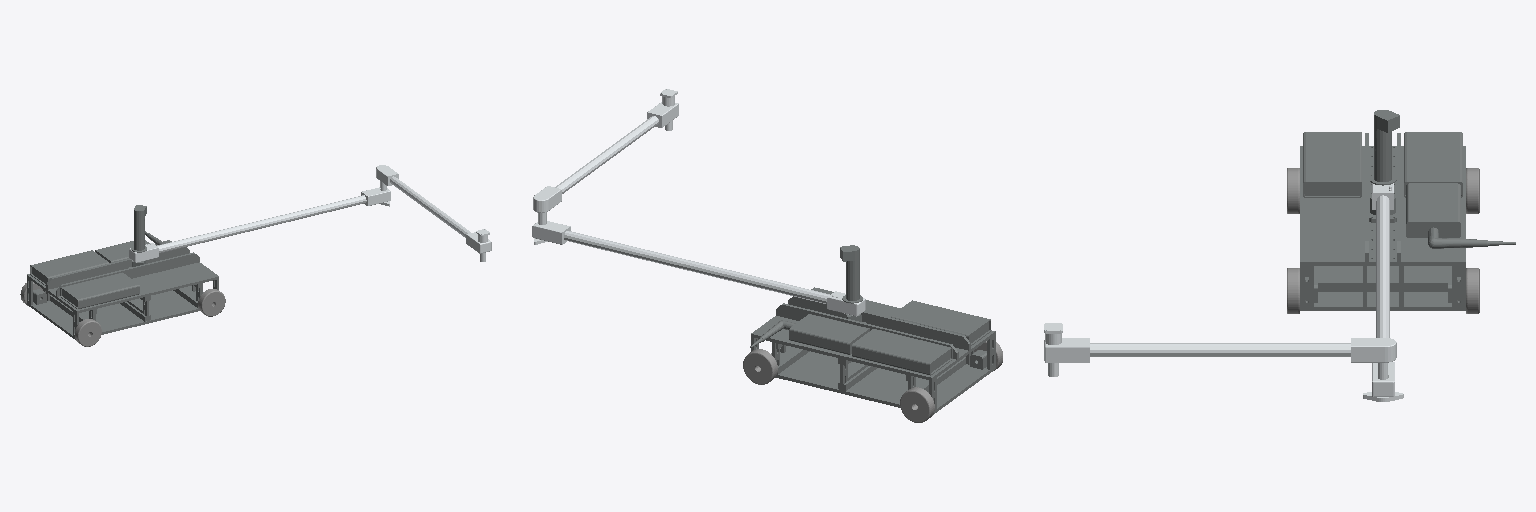
robot.urdf — robot_wheel:
<?xml version="1.0" encoding="utf-8"?>
<!-- This URDF was automatically created by SolidWorks to URDF Exporter! Originally created by Stephen Brawner (brawner@gmail.com) 
     Commit Version: 1.6.0-4-g7f85cfe  Build Version: 1.6.7995.38578
     For more information, please see http://wiki.ros.org/sw_urdf_exporter -->
<robot
  name="robot_wheel">
  <link
    name="base_link">
    <inertial>
      <origin
        xyz="-0.00229943020015409 0.00132677440525811 0.0362711235955988"
        rpy="0 0 0" />
      <mass
        value="6.28012496320014" />
      <inertia
        ixx="0.0208487819493373"
        ixy="1.20017872269877E-05"
        ixz="-6.99844776964642E-06"
        iyy="0.0510364796280292"
        iyz="-9.19521522482447E-07"
        izz="0.0632179865160334" />
    </inertial>
    <visual>
      <origin
        xyz="0 0 0"
        rpy="0 0 0" />
      <geometry>
        <mesh
          filename="meshes/base_link.STL" />
      </geometry>
      <material
        name="">
        <color
          rgba="0.529411764705882 0.549019607843137 0.549019607843137 1" />
      </material>
    </visual>
    <!-- <collision>
      <origin
        xyz="0 0 0"
        rpy="0 0 0" />
      <geometry>
        <mesh
          filename="package://robot_wheel/meshes/base_link.STL" />
      </geometry>
    </collision> -->
  </link>
  <link
    name="right_low_wheel_link">
    <inertial>
      <origin
        xyz="-2.77555756156289E-17 -1.73472347597681E-18 0.00750000000000005"
        rpy="0 0 0" />
      <mass
        value="0.0277969718614776" />
      <inertia
        ixx="5.13305217432359E-06"
        ixy="-3.5914114245521E-23"
        ixz="-9.16429214236854E-39"
        iyy="5.13305217432359E-06"
        iyz="-8.68251860160095E-39"
        izz="9.23978719507334E-06" />
    </inertial>
    <visual>
      <origin
        xyz="0 0 0"
        rpy="0 0 0" />
      <geometry>
        <mesh
          filename="meshes/right_low_wheel_link.STL" />
      </geometry>
      <material
        name="">
        <color
          rgba="0.627450980392157 0.627450980392157 0.627450980392157 1" />
      </material>
    </visual>
    <collision>
      <origin
        xyz="0 0 0"
        rpy="0 0 0" />
      <geometry>
        <mesh
          filename="meshes/right_low_wheel_link.STL" />
      </geometry>
    </collision>
  </link>
  <joint
    name="right_low_wheel_joint"
    type="continuous">
    <origin
      xyz="-0.13 -0.091 0.015"
      rpy="1.5708 0 0" />
    <parent
      link="base_link" />
    <child
      link="right_low_wheel_link" />
    <axis
      xyz="0 0 -1" />
  </joint>
  <link
    name="right_up_wheel_link">
    <inertial>
      <origin
        xyz="2.77555756156289E-17 -1.73472347597681E-18 0.00750000000000005"
        rpy="0 0 0" />
      <mass
        value="0.0277969718614776" />
      <inertia
        ixx="5.13305217432359E-06"
        ixy="3.5914114245521E-23"
        ixz="-1.0702480932126E-24"
        iyy="5.13305217432359E-06"
        iyz="-1.69617343835767E-26"
        izz="9.23978719507334E-06" />
    </inertial>
    <visual>
      <origin
        xyz="0 0 0"
        rpy="0 0 0" />
      <geometry>
        <mesh
          filename="meshes/right_up_wheel_link.STL" />
      </geometry>
      <material
        name="">
        <color
          rgba="0.627450980392157 0.627450980392157 0.627450980392157 1" />
      </material>
    </visual>
    <collision>
      <origin
        xyz="0 0 0"
        rpy="0 0 0" />
      <geometry>
        <mesh
          filename="meshes/right_up_wheel_link.STL" />
      </geometry>
    </collision>
  </link>
  <joint
    name="right_up_wheel_joint"
    type="continuous">
    <origin
      xyz="0.13 -0.091 0.015"
      rpy="1.5708 0 0" />
    <parent
      link="base_link" />
    <child
      link="right_up_wheel_link" />
    <axis
      xyz="0 0 -1" />
  </joint>
  <link
    name="left_low_wheel_link">
    <inertial>
      <origin
        xyz="-2.77555756156289E-17 1.73472347597681E-18 0.00750000000000005"
        rpy="0 0 0" />
      <mass
        value="0.0277969718614776" />
      <inertia
        ixx="5.13305217432359E-06"
        ixy="3.5914114245521E-23"
        ixz="1.0702480932126E-24"
        iyy="5.13305217432359E-06"
        iyz="1.69617343835767E-26"
        izz="9.23978719507334E-06" />
    </inertial>
    <visual>
      <origin
        xyz="0 0 0"
        rpy="0 0 0" />
      <geometry>
        <mesh
          filename="meshes/left_low_wheel_link.STL" />
      </geometry>
      <material
        name="">
        <color
          rgba="0.627450980392157 0.627450980392157 0.627450980392157 1" />
      </material>
    </visual>
    <collision>
      <origin
        xyz="0 0 0"
        rpy="0 0 0" />
      <geometry>
        <mesh
          filename="meshes/left_low_wheel_link.STL" />
      </geometry>
    </collision>
  </link>
  <joint
    name="left_low_wheel_joint"
    type="continuous">
    <origin
      xyz="-0.13 0.091 0.015"
      rpy="-1.5708 0 0" />
    <parent
      link="base_link" />
    <child
      link="left_low_wheel_link" />
    <axis
      xyz="0 0 -1" />
  </joint>
  <link
    name="left_up_wheel_link">
    <inertial>
      <origin
        xyz="2.77555756156289E-17 1.73472347597681E-18 0.00750000000000005"
        rpy="0 0 0" />
      <mass
        value="0.0277969718614776" />
      <inertia
        ixx="5.13305217432359E-06"
        ixy="-3.5914114245521E-23"
        ixz="9.16429214236854E-39"
        iyy="5.13305217432359E-06"
        iyz="8.68251860160095E-39"
        izz="9.23978719507334E-06" />
    </inertial>
    <visual>
      <origin
        xyz="0 0 0"
        rpy="0 0 0" />
      <geometry>
        <mesh
          filename="meshes/left_up_wheel_link.STL" />
      </geometry>
      <material
        name="">
        <color
          rgba="0.627450980392157 0.627450980392157 0.627450980392157 1" />
      </material>
    </visual>
    <collision>
      <origin
        xyz="0 0 0"
        rpy="0 0 0" />
      <geometry>
        <mesh
          filename="meshes/left_up_wheel_link.STL" />
      </geometry>
    </collision>
  </link>
  <joint
    name="left_up_wheel_joint"
    type="continuous">
    <origin
      xyz="0.13 0.091 0.015"
      rpy="-1.5708 0 0" />
    <parent
      link="base_link" />
    <child
      link="left_up_wheel_link" />
    <axis
      xyz="0 0 -1" />
  </joint>
  <link
    name="joint1_link">
    <inertial>
      <origin
        xyz="0.274646368577893 9.54461459684507E-05 0.0108507813736491"
        rpy="0 0 0" />
      <mass
        value="0.358137676971684" />
      <inertia
        ixx="3.00873729143832E-05"
        ixy="8.0117926630701E-06"
        ixz="-1.87115851527436E-07"
        iyy="0.0107204189551514"
        iyz="6.39444726719749E-09"
        izz="0.0107112042049041" />
    </inertial>
    <visual>
      <origin
        xyz="0 0 0"
        rpy="0 0 0" />
      <geometry>
        <mesh
          filename="meshes/joint1_link.STL" />
      </geometry>
      <material
        name="">
        <color
          rgba="0.898039215686275 0.917647058823529 0.929411764705882 1" />
      </material>
    </visual>
    <collision>
      <origin
        xyz="0 0 0"
        rpy="0 0 0" />
      <geometry>
        <mesh
          filename="meshes/joint1_link.STL" />
      </geometry>
    </collision>
  </link>
  <joint
    name="joint1"
    type="revolute">
    <origin
      xyz="0.034 0 0.085"
      rpy="0 0 0" />
    <parent
      link="base_link" />
    <child
      link="joint1_link" />
    <axis
      xyz="0 0 1" />
    <limit
      lower="-3.14"
      upper="3.14"
      effort="100"
      velocity="100" />
  </joint>
  <link
    name="joint2_link">
    <inertial>
      <origin
        xyz="0.000126522804719809 -0.188695162466951 -0.00980217261138516"
        rpy="0 0 0" />
      <mass
        value="0.265505469343803" />
      <inertia
        ixx="0.0043037102056279"
        ixy="-5.51542221280243E-06"
        ixz="1.67945484236018E-15"
        iyy="1.69561780049952E-05"
        iyz="9.20087065104431E-18"
        izz="0.0043033113114948" />
    </inertial>
    <visual>
      <origin
        xyz="0 0 0"
        rpy="0 0 0" />
      <geometry>
        <mesh
          filename="meshes/joint2_link.STL" />
      </geometry>
      <material
        name="">
        <color
          rgba="0.898039215686275 0.917647058823529 0.929411764705882 1" />
      </material>
    </visual>
    <collision>
      <origin
        xyz="0 0 0"
        rpy="0 0 0" />
      <geometry>
        <mesh
          filename="meshes/joint2_link.STL" />
      </geometry>
    </collision>
  </link>
  <joint
    name="joint2"
    type="revolute">
    <origin
      xyz="0.514 0 0.063"
      rpy="0 0 0" />
    <parent
      link="joint1_link" />
    <child
      link="joint2_link" />
    <axis
      xyz="0 0 1" />
    <limit
      lower="-3.14"
      upper="3.14"
      effort="100"
      velocity="100" />
  </joint>
</robot>

--- Render facts (derived) ---
Views: 3 orthographic renders of the robot side by side, from view 1: azimuth 30°, elevation 25°; view 2: azimuth 150°, elevation 25°; view 3: azimuth 270°, elevation 25°.
Model robot_wheel with 7 links and 6 joints (2 revolute, 4 continuous), rooted at base_link, posed every joint at zero.
Links seen in each view (by area): view 1: base_link, joint1_link, joint2_link, right_up_wheel_link, right_low_wheel_link; view 2: base_link, joint1_link, joint2_link, left_low_wheel_link, left_up_wheel_link; view 3: base_link, joint2_link, joint1_link, left_low_wheel_link, left_up_wheel_link, right_low_wheel_link, right_up_wheel_link.
Link boxes in pixels (x1,y1,x2,y2): base_link: (27,205,218,339); joint1_link: (129,167,390,262); joint2_link: (376,165,491,261); right_up_wheel_link: (198,289,225,316); right_low_wheel_link: (75,319,101,346); base_link: (750,245,995,415); joint1_link: (532,195,865,316); joint2_link: (533,89,678,212); left_low_wheel_link: (900,387,934,422); left_up_wheel_link: (743,349,777,384); base_link: (1300,110,1515,310); joint2_link: (1044,323,1396,376); joint1_link: (1363,183,1403,401); left_low_wheel_link: (1466,168,1479,213); left_up_wheel_link: (1466,268,1479,313); right_low_wheel_link: (1287,168,1299,213); right_up_wheel_link: (1287,268,1299,313).
Size in the robot's own frame: 0.7164 by 0.5175 by 0.1959 metres.
Meshes: 7 distinct files referenced, 7 mesh visuals loaded (7 binary STL).
